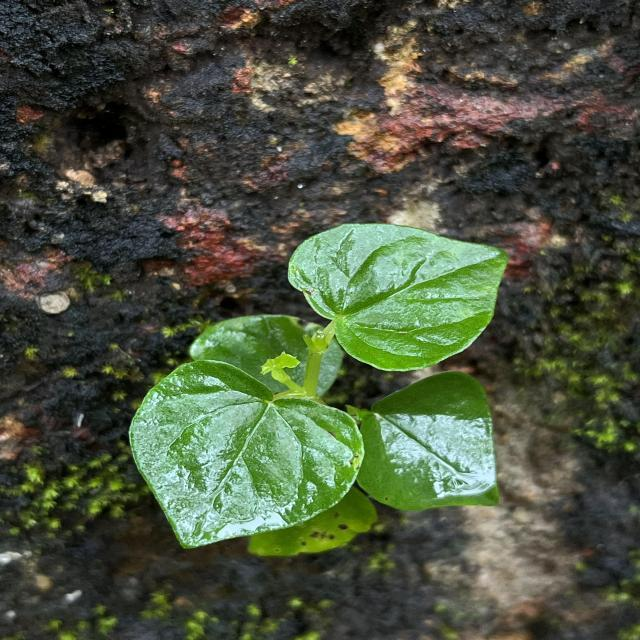Peperomia pellucida: (126, 358, 367, 552), (286, 222, 510, 374)
